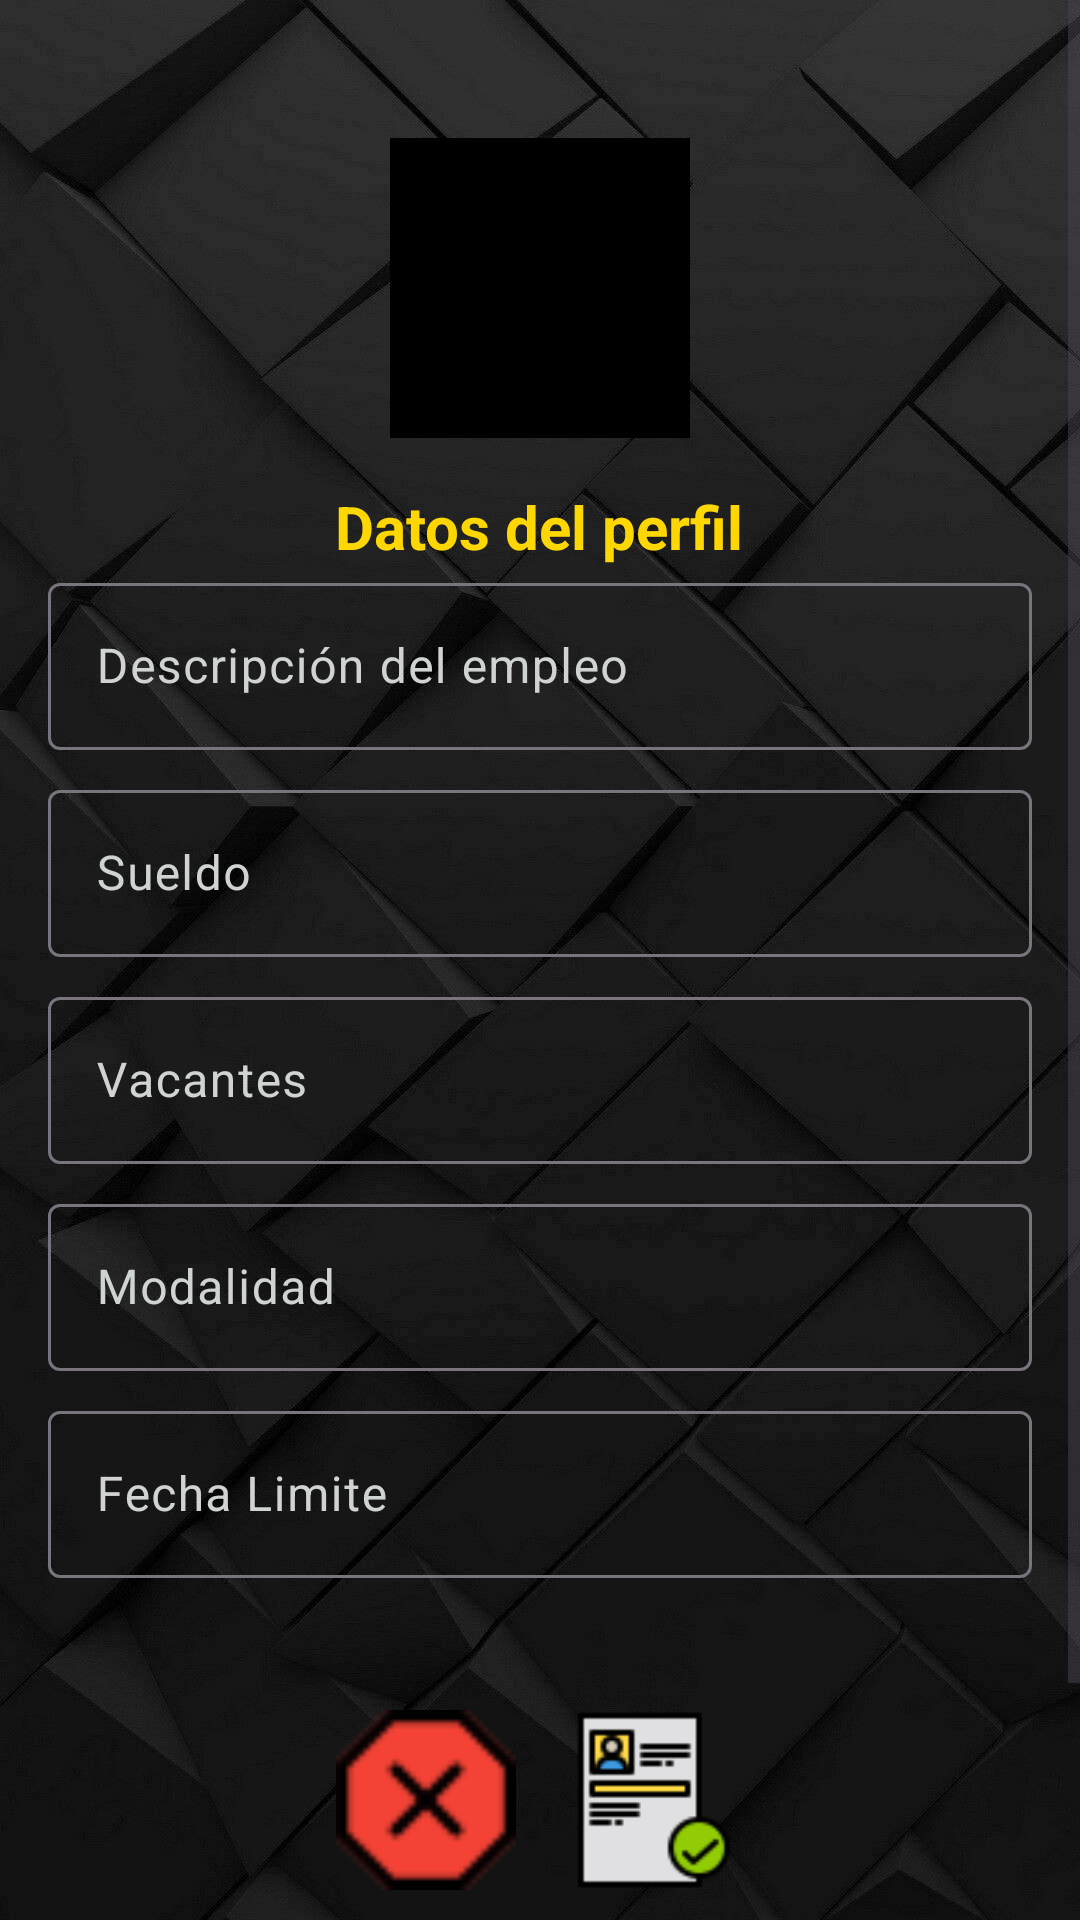

Icons on this 1080w x 1920h Android screen, each with its box as (x1, y1, x2, y2):
Aprobar: (583, 1718, 725, 1882)
Rechazar: (343, 1712, 509, 1883)
